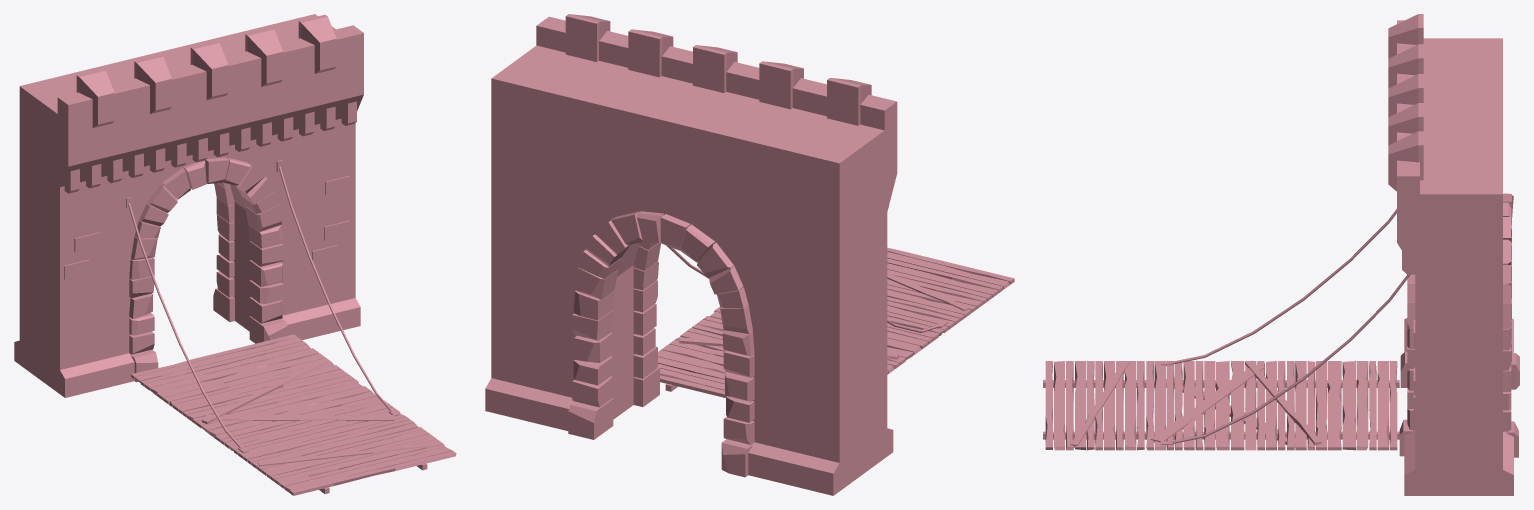
File: Mega_Asset_s_Pack_Cube_070.FBX
3 renders of one model, left to right at view 1: azimuth 30°, elevation 25°; view 2: azimuth 150°, elevation 25°; view 3: azimuth 270°, elevation 25°, orthographic. The views are drawn at different scales.
Parts seen in each view (by area): view 1: Mega_Asset_s_Pack_Cube_070; view 2: Mega_Asset_s_Pack_Cube_070; view 3: Mega_Asset_s_Pack_Cube_070.
Part boxes in pixels (x1=…): Mega_Asset_s_Pack_Cube_070: x1=14, y1=14, x2=456, y2=495; Mega_Asset_s_Pack_Cube_070: x1=485, y1=14, x2=1014, y2=495; Mega_Asset_s_Pack_Cube_070: x1=1043, y1=14, x2=1519, y2=495.
Size of what is drawn, in the model's own units: 1688 by 2178 by 1698.
